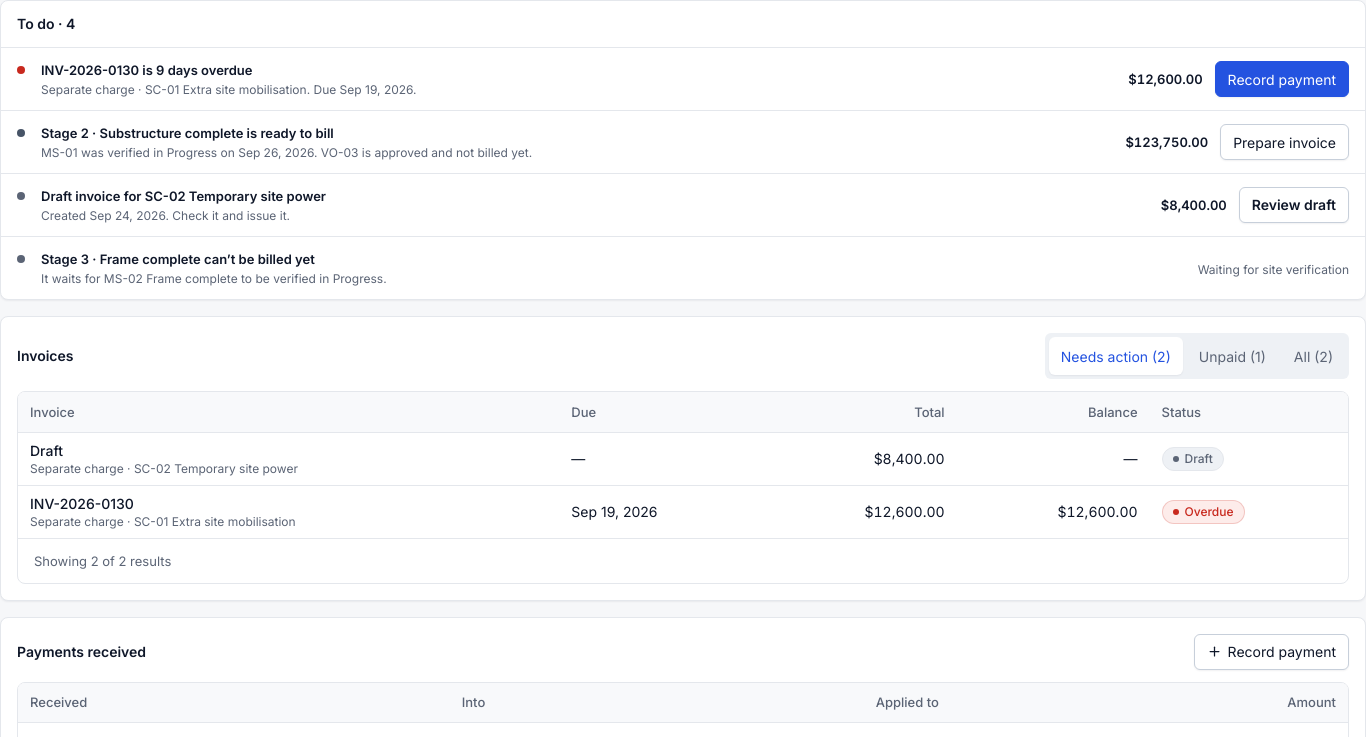
Test: Billing — invoices and payments › filters Needs action / Unpaid / All with counts, and reads a draft as "Draft" with no balance
Expected: the text "Draft" is shown, [30, 442, 63, 458]
Expected: the text "Overdue" is shown, [1162, 500, 1244, 524]
Click the tab "Unpaid (1)" at (1232, 356), box [1187, 337, 1278, 375]
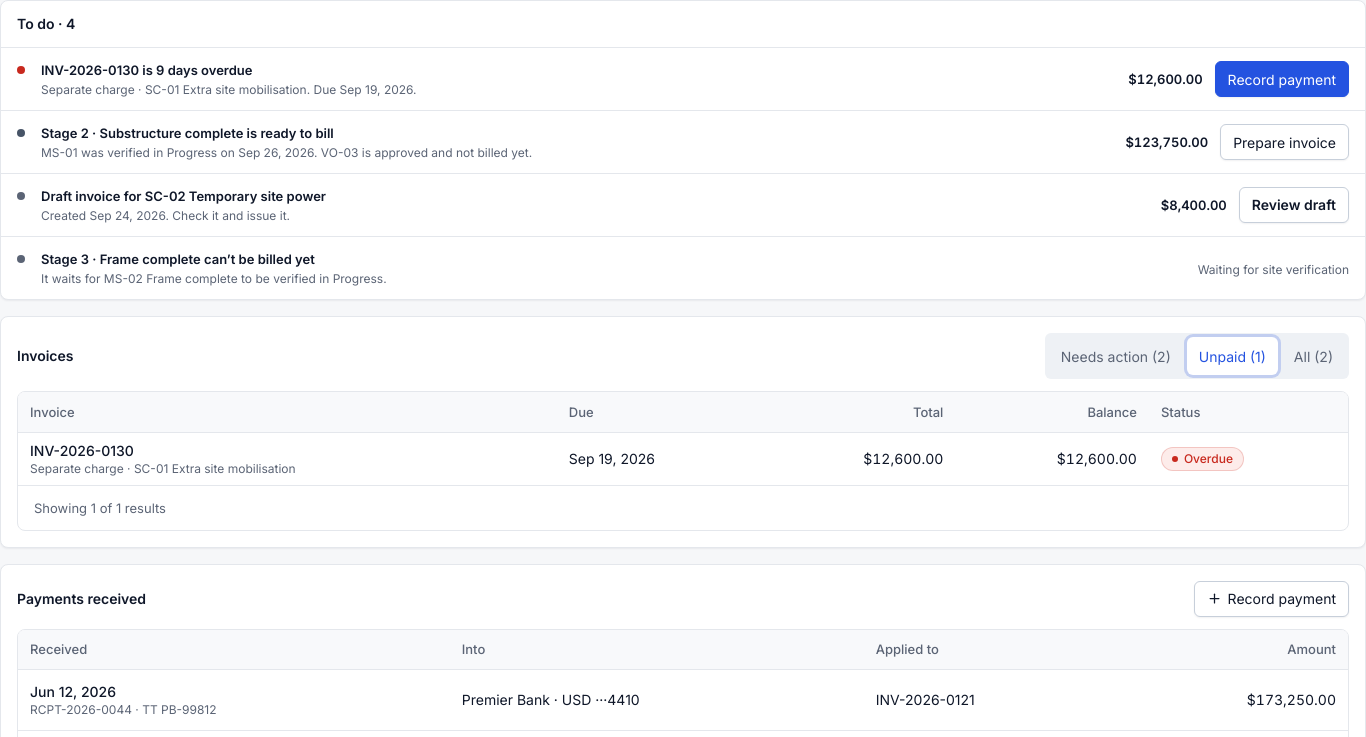
Now the link "Separate charge · SC-02 Temporary site power" is gone
